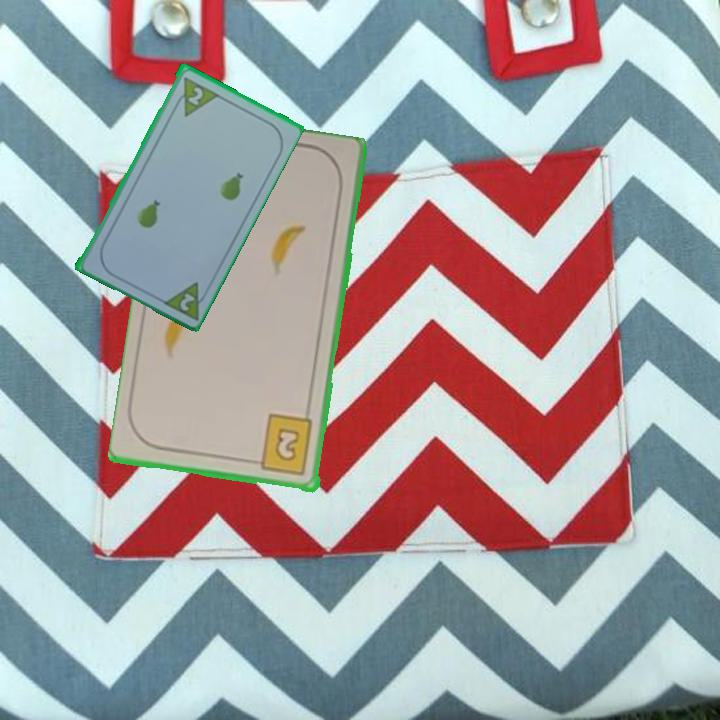2b: (248, 412, 316, 479)
2p: (184, 83, 206, 108), (176, 289, 198, 314)
